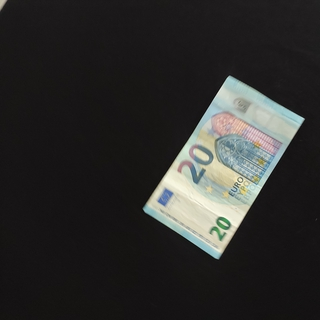20EUROFront: (142, 75, 305, 260)
